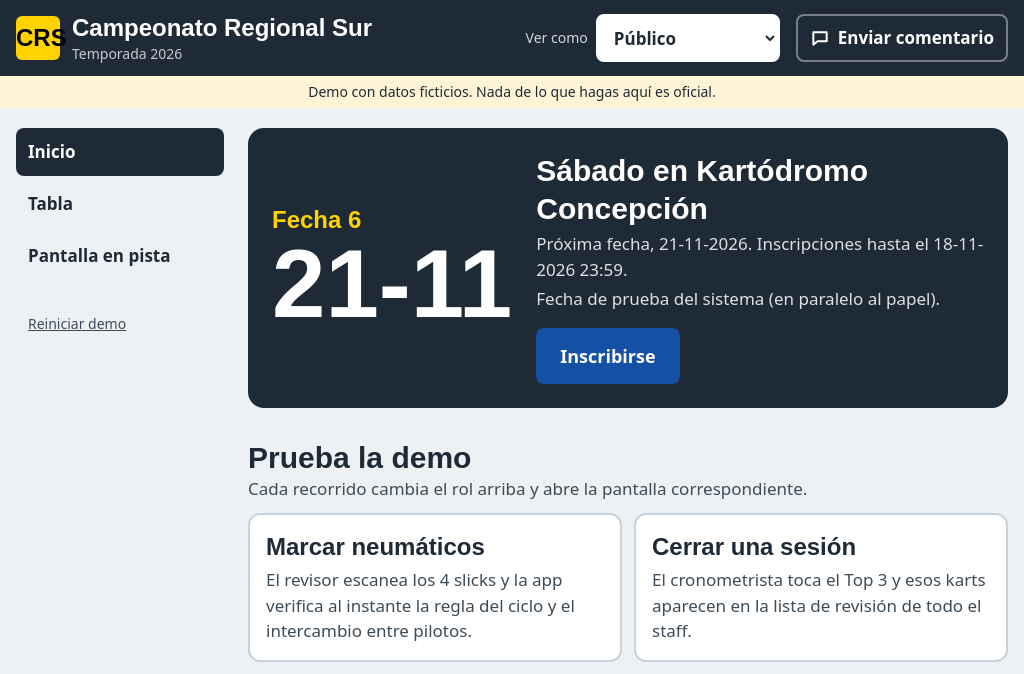
it: navegación filtrada por permisos del rol en la fecha (SPEC 4.2) › I-10: el revisor técnico (sin inspection.select) no ve "Agregar kart a revisión"; el comisario sí
Select "Revisor técnico" in the dropdown labelled "Ver como" at (688, 38), box [596,14,780,62]
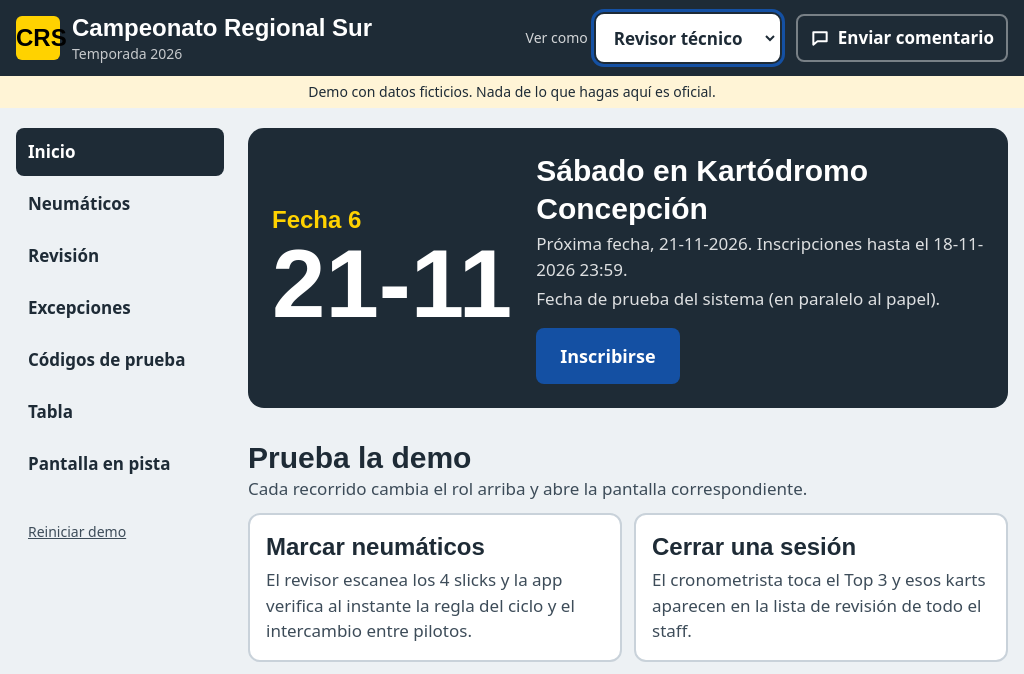
Click the link "Revisión" at (64, 256), box [28,244,99,267]
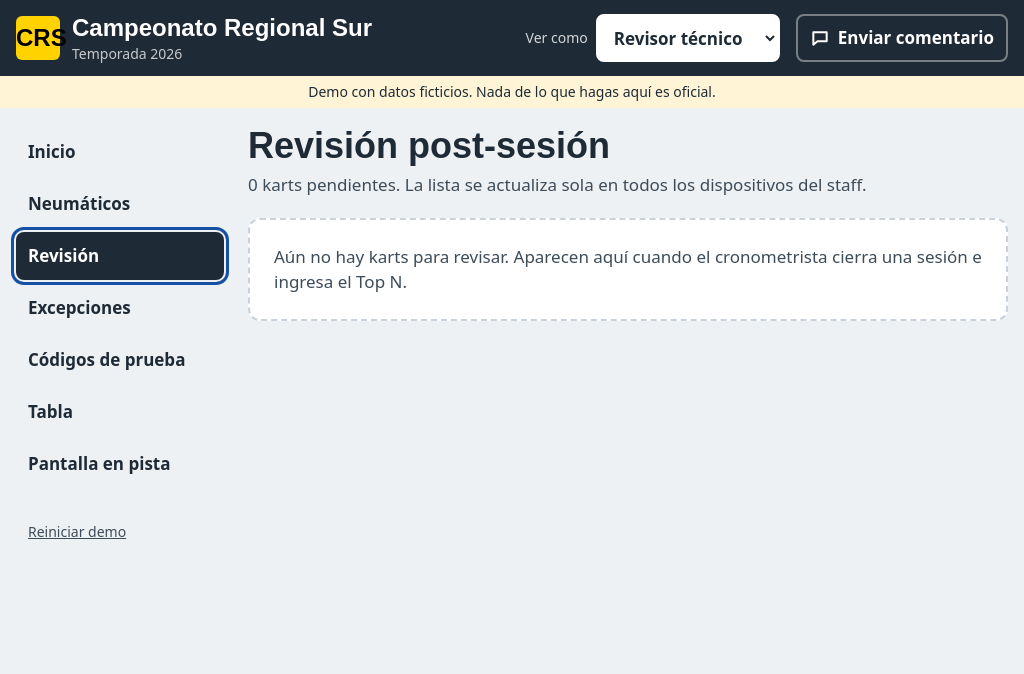
Expected: the button "Agregar kart a revisión" is not shown
Now the heading "Revisión post-sesión" is shown, box [248,125,610,166]
Select "Comisario" in the dropdown labelled "Ver como" at (688, 38), box [596,14,780,62]
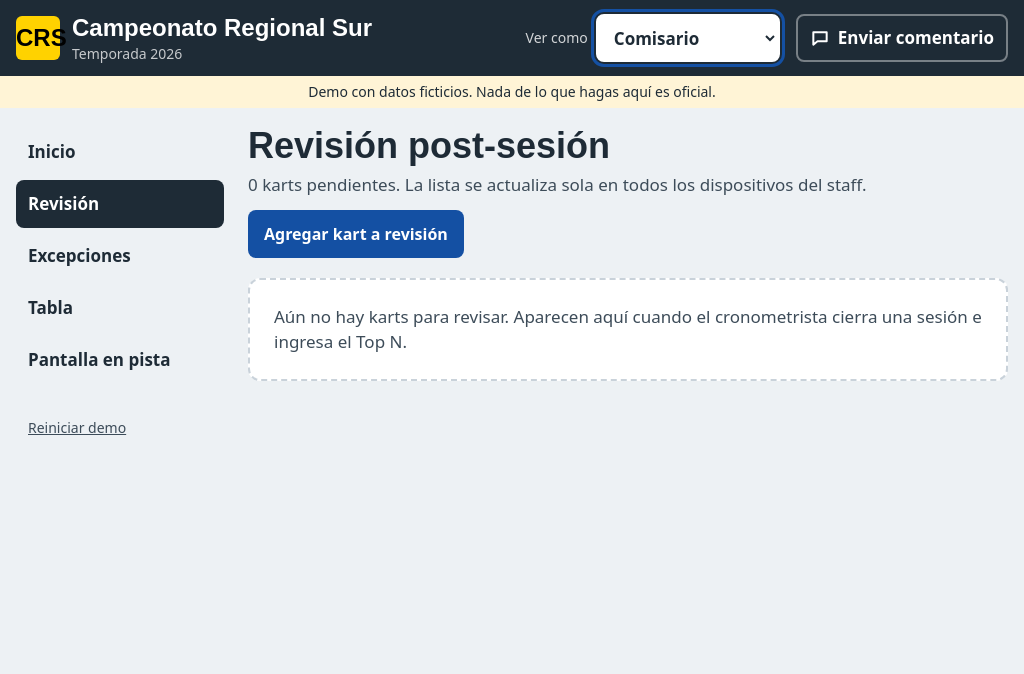
Now the button "Agregar kart a revisión" is shown, box [248,210,464,258]
